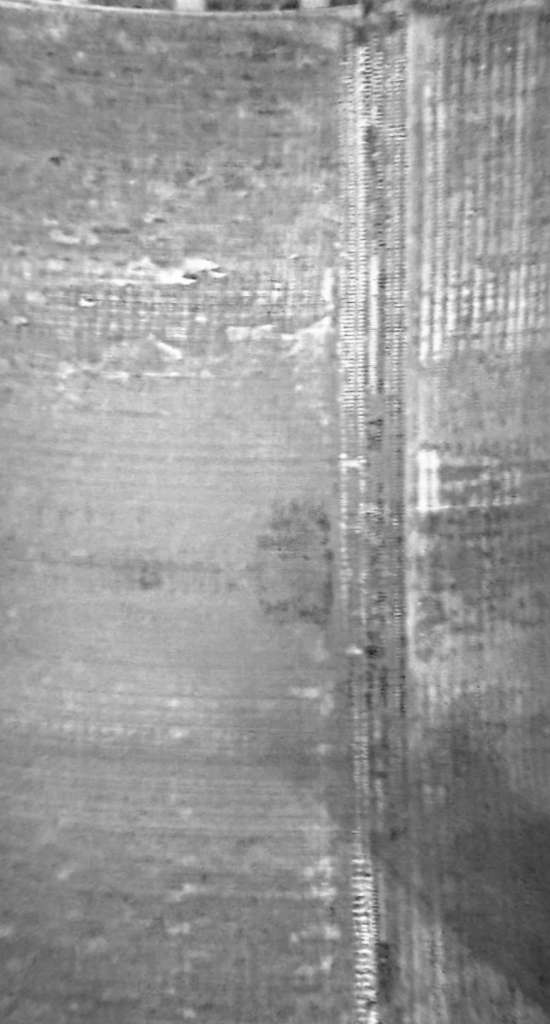splice: (331, 24, 436, 1024)
